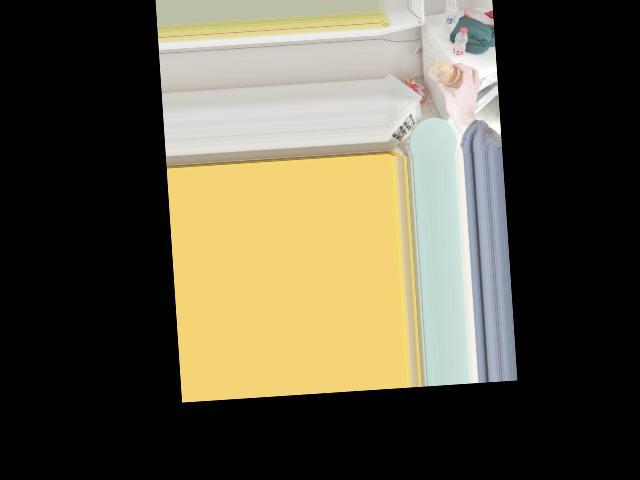sweet_potato: (433, 60, 463, 89)
